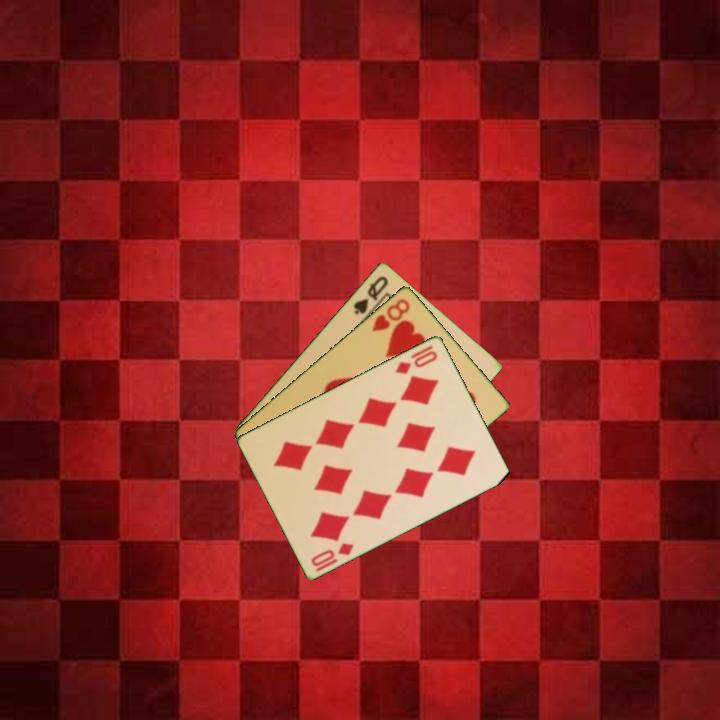10d: (391, 346, 441, 377), (307, 539, 357, 569)
8h: (368, 295, 413, 334)
Qs: (350, 272, 391, 317)
